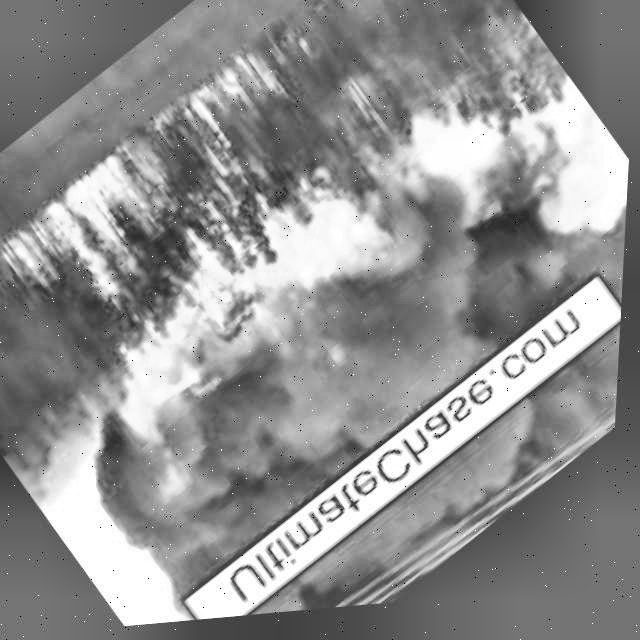Fire: (0, 31, 455, 528), (329, 0, 410, 10)
Smoke: (63, 79, 635, 622), (208, 276, 627, 624)
